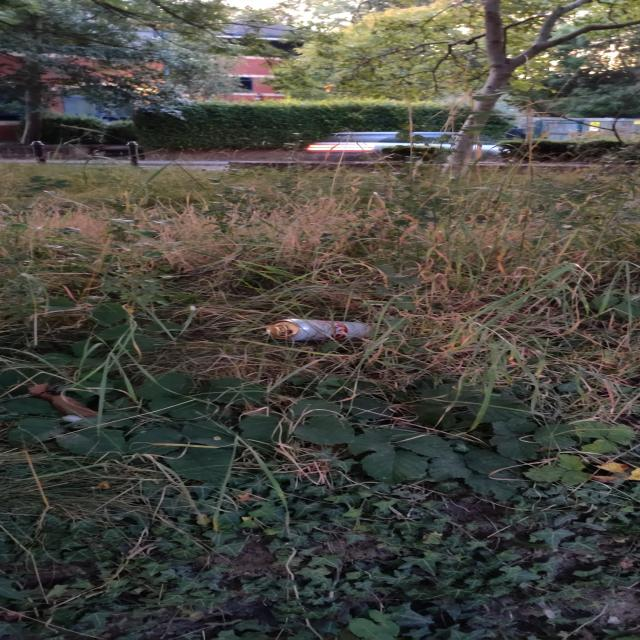litter: (241, 309, 391, 347)
